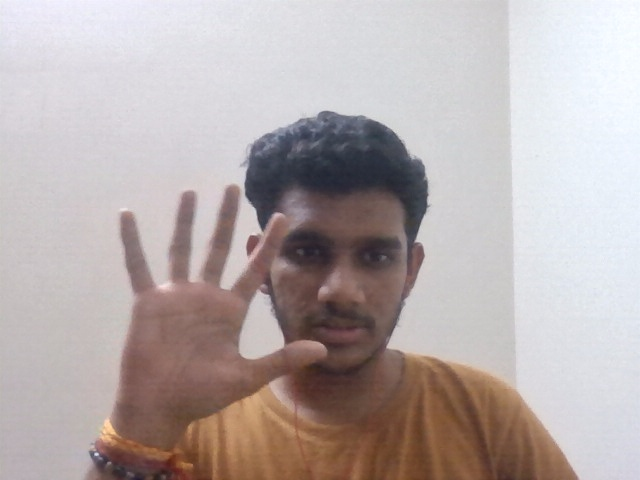hello: (118, 183, 329, 442)
